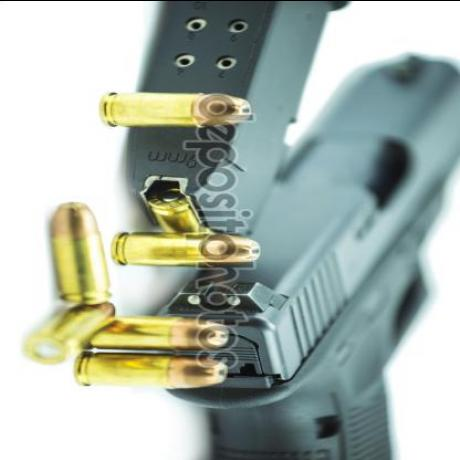weapon: (189, 49, 460, 460)
